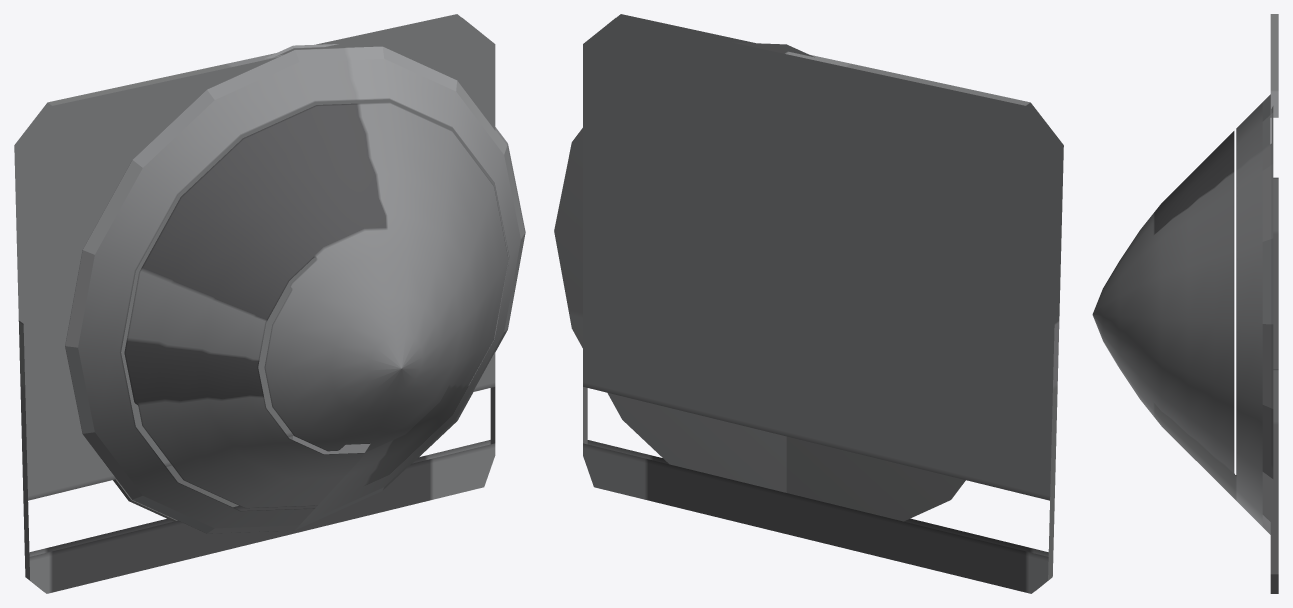
The picture shows the model from 3 angles, left to right: view 1: azimuth 30°, elevation 25°; view 2: azimuth 150°, elevation 25°; view 3: azimuth 270°, elevation 25°; orthographic projection. The views are drawn at different scales.
Size of the model in its own units: 0.9912 by 0.9072 by 0.378.
